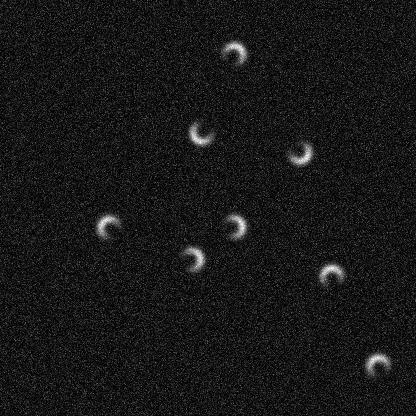Janus: (217, 211, 247, 241), (316, 261, 346, 291), (175, 244, 205, 274), (218, 39, 248, 69), (186, 117, 216, 147), (94, 212, 124, 242), (363, 351, 393, 381), (284, 136, 314, 166)
